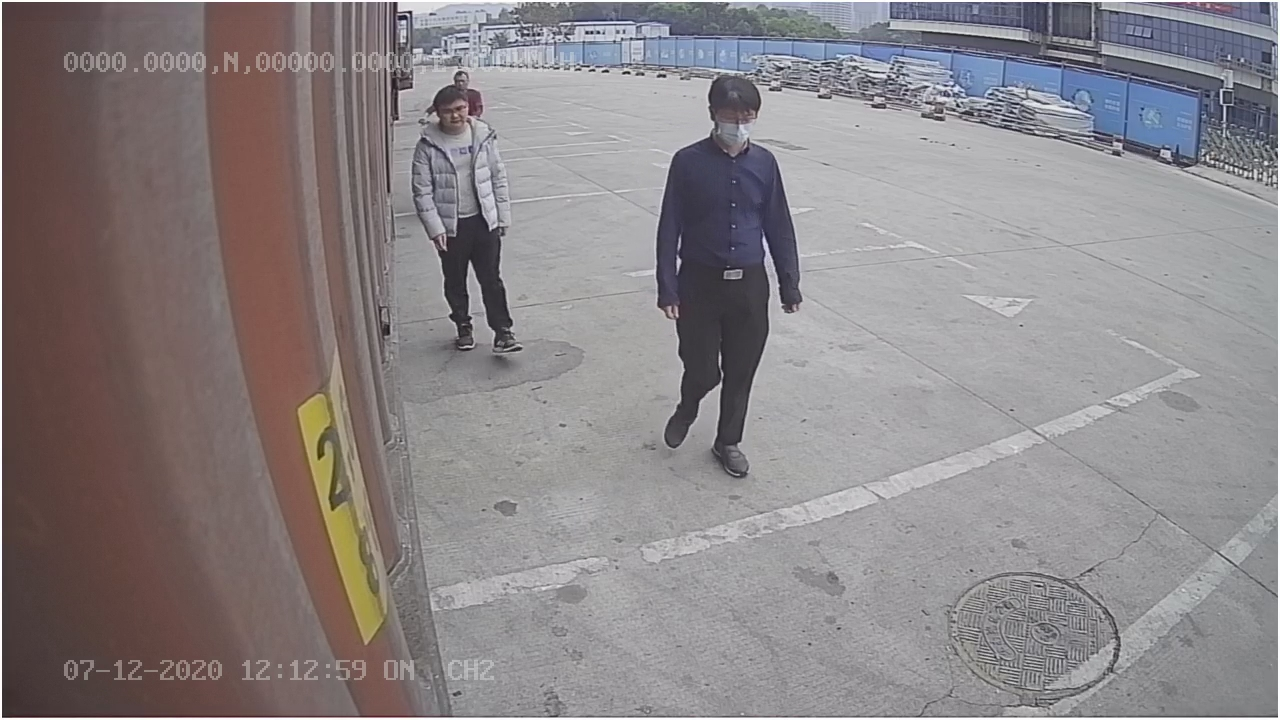person: (654, 67, 803, 477)
